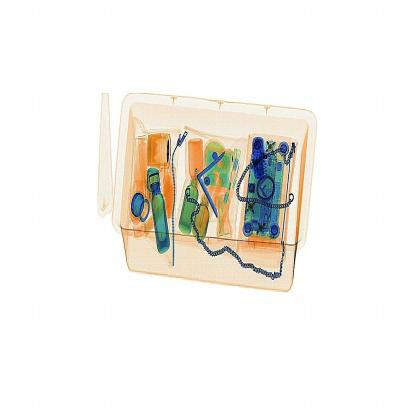scissors: (250, 127, 274, 187)
